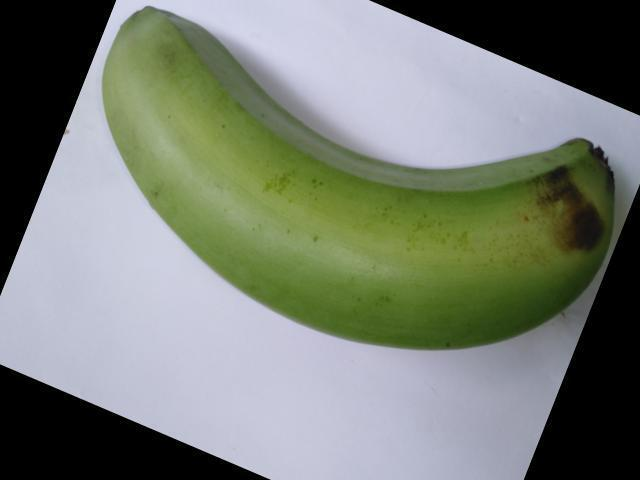freshunripe: (85, 1, 639, 360)
